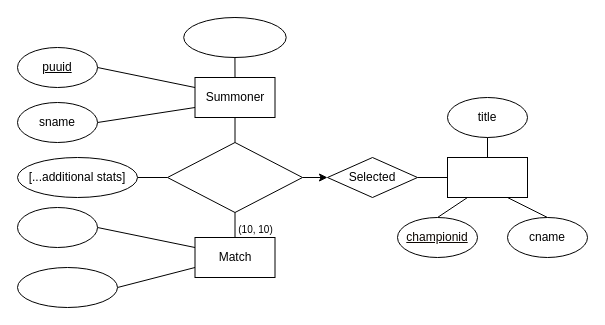
Some shapes in this 605 by 325 pixel diagram are drawn without their labels. Each missing label, with the box of its shape:
Champions: (446, 156, 528, 198)
game_duration: (16, 266, 118, 308)
matchid: (16, 206, 98, 248)
Summoner Match: (166, 142, 302, 212)
summonerlevel: (183, 16, 286, 58)
